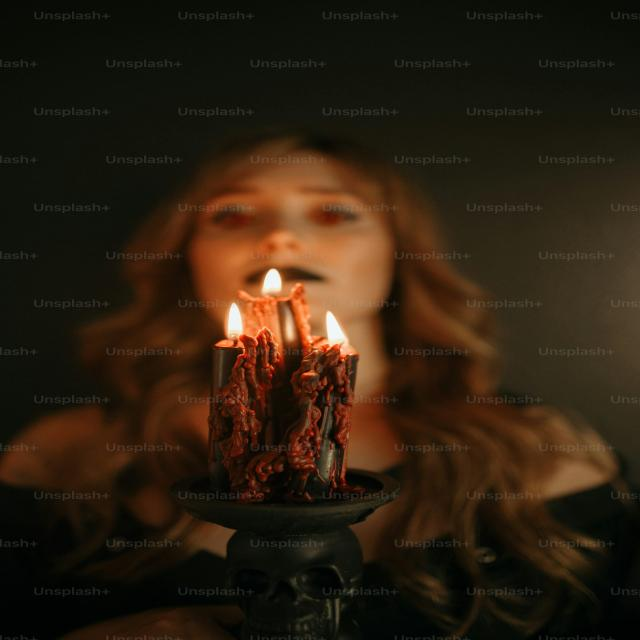fire: (326, 311, 358, 355)
